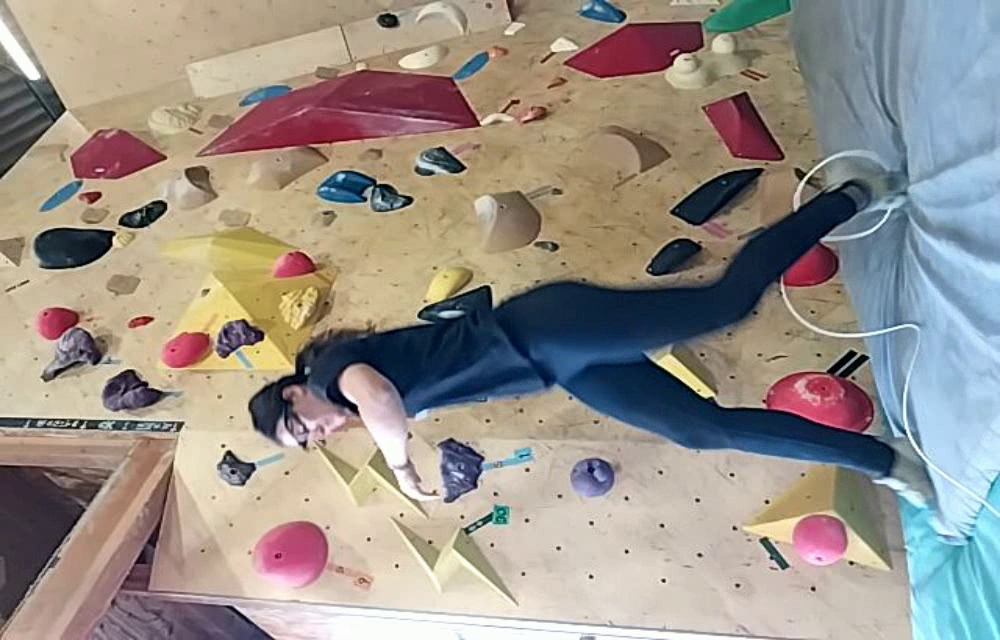cluster1: (159, 249, 322, 371)
cluster10: (37, 126, 219, 228)
cluster11: (472, 123, 670, 256)
cluster12: (564, 22, 784, 160)
cluster13: (194, 44, 553, 155)
cluster3: (414, 265, 492, 324)
cluster4: (216, 437, 518, 608)
cluster5: (752, 372, 890, 568)
cluster6: (570, 338, 714, 497)
cluster7: (645, 165, 840, 287)
cluster8: (32, 227, 165, 410)
cluster9: (246, 142, 466, 212)
